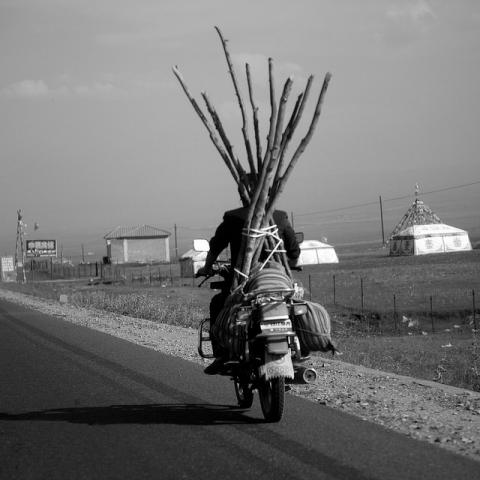motorcycle: (194, 260, 324, 424)
